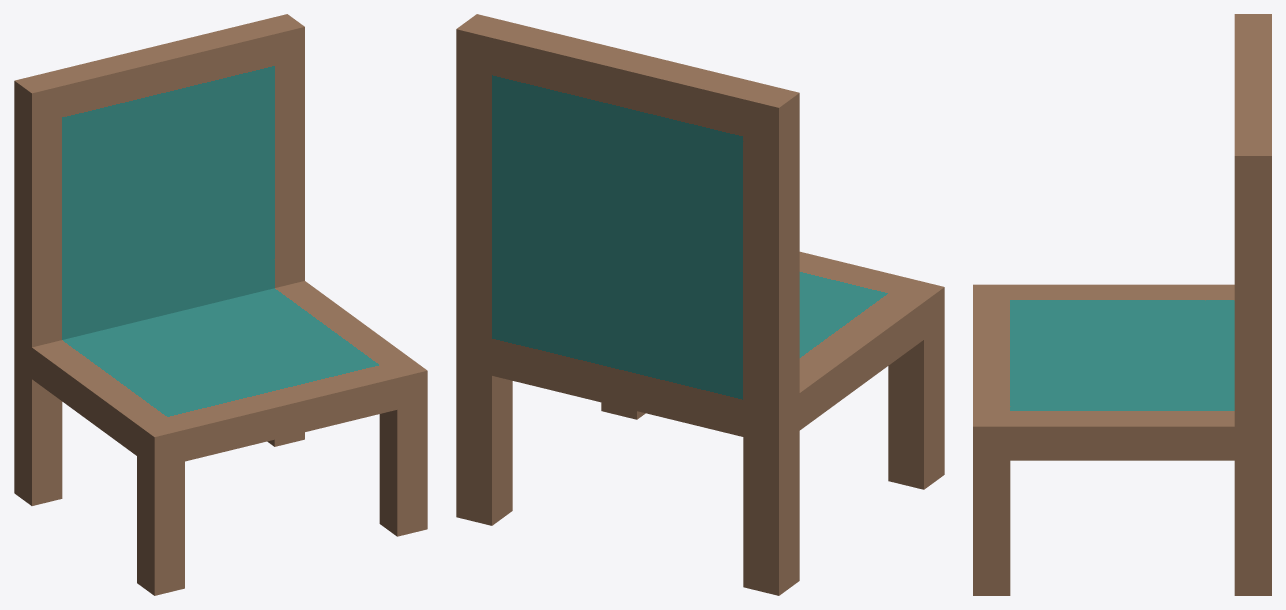
File: sandali.dae
3 renders of one model, left to right at view 1: azimuth 30°, elevation 25°; view 2: azimuth 150°, elevation 25°; view 3: azimuth 270°, elevation 25°, orthographic. The views are drawn at different scales.
Visible parts, largest first — view 1: sandali; view 2: sandali; view 3: sandali.
Part boxes in pixels (left/top/right/bottom): sandali: left=14, top=14, right=427, bottom=595; sandali: left=456, top=14, right=944, bottom=595; sandali: left=973, top=14, right=1271, bottom=595.
Bounding box in the file's own units: 0.9 × 0.8 × 1.3.
Materials: 1 (1 with a texture image).
